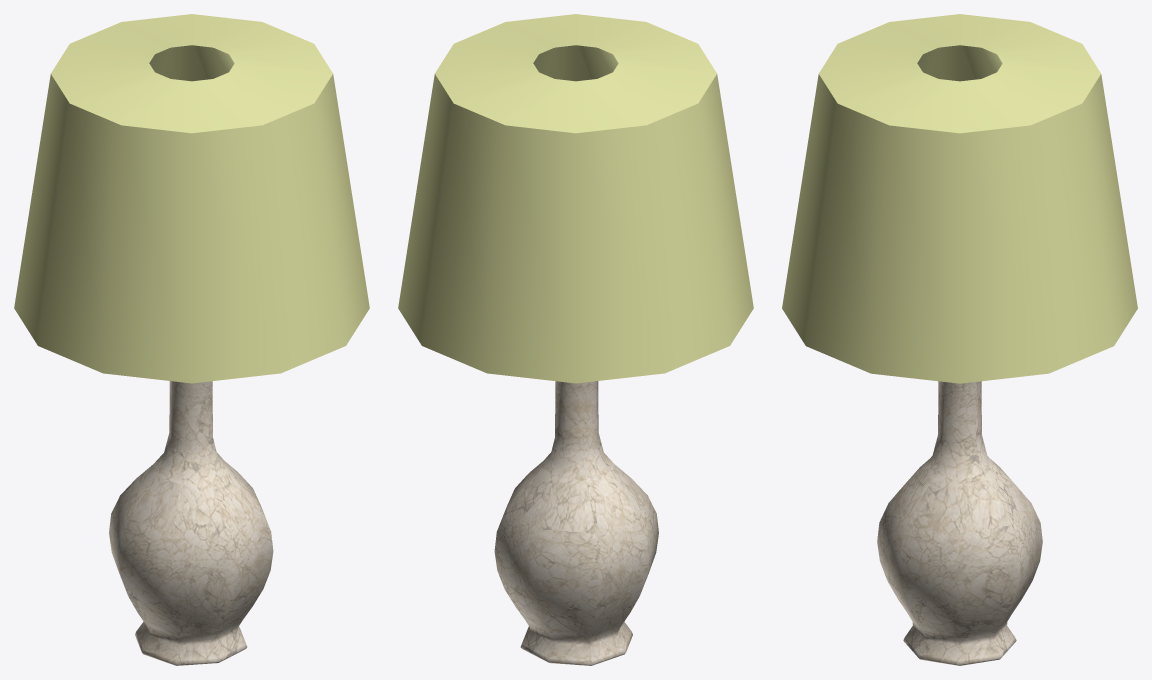
The model's file is Bed_Lamp.fbx.
3 renders of one model, left to right at view 1: azimuth 30°, elevation 25°; view 2: azimuth 150°, elevation 25°; view 3: azimuth 270°, elevation 25°, orthographic.
Parts seen in each view (by area): view 1: Bed_Lamp; view 2: Bed_Lamp; view 3: Bed_Lamp.
Boxes of the visible parts, box(x1,y1,x2,y2) form: Bed_Lamp: box(14, 14, 369, 665); Bed_Lamp: box(398, 14, 753, 665); Bed_Lamp: box(782, 14, 1137, 665).
Size of the model in its own units: 25 by 44.92 by 25.
